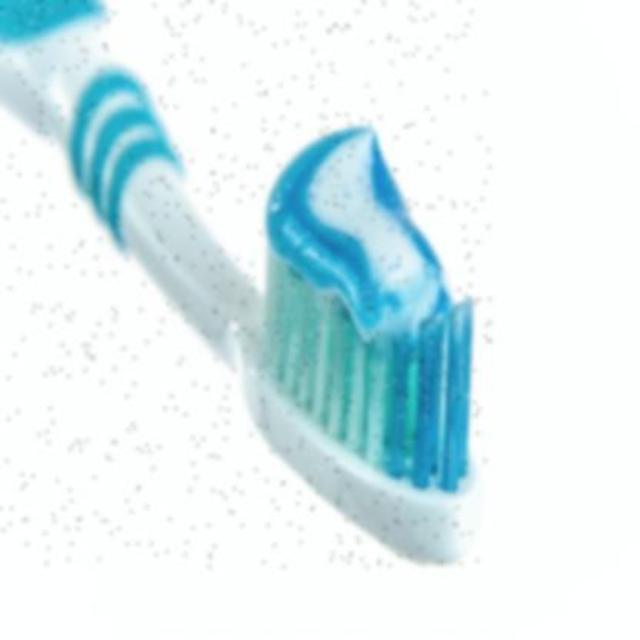toothbrush: (0, 0, 490, 568)
